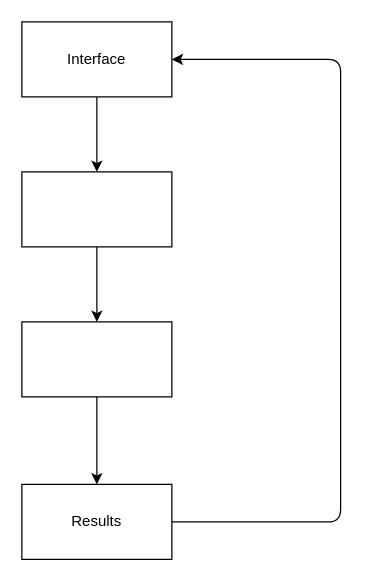
Image size: 373x581. Some labels were removed from this diagram. Here are the shapes that lost their labels. From the top down, the centre of each, then its label:
At (x=96, y=209): "Camera access and Image Capture".
At (x=96, y=359): "OCR Processing".
